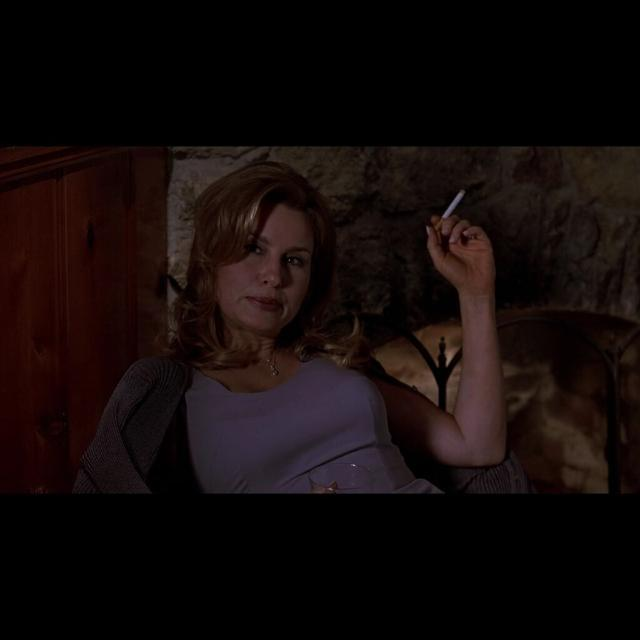rokok: (439, 185, 466, 223)
